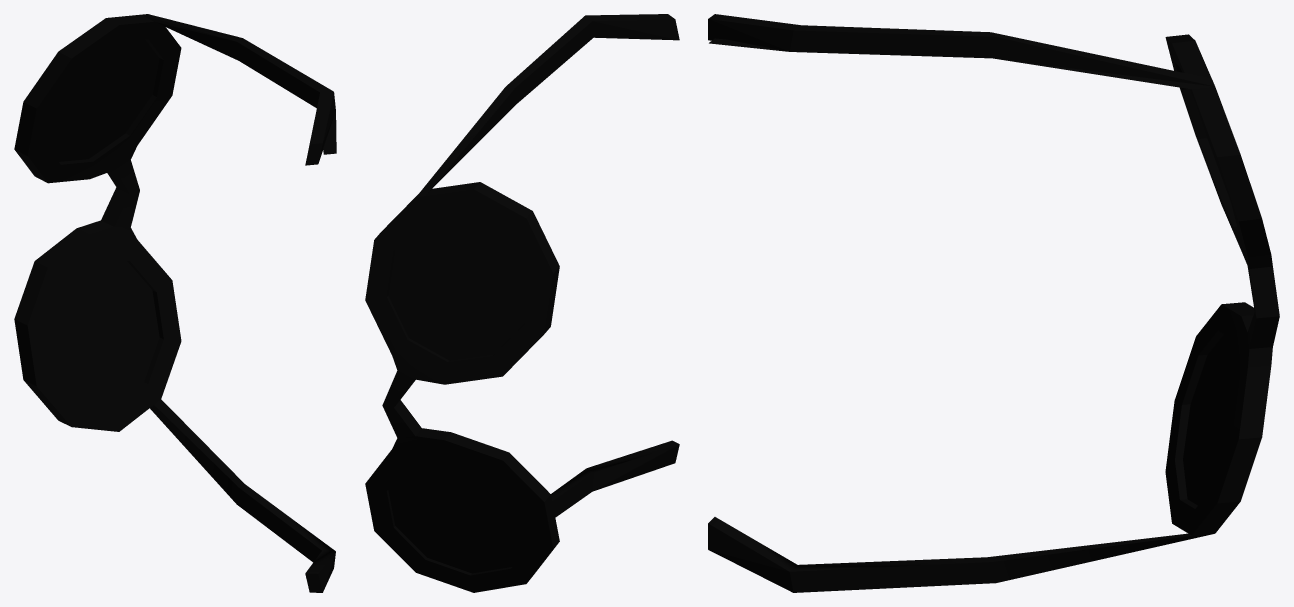
File: f_glasses_Toddy.fbx
The picture shows the model from 3 angles, left to right: view 1: azimuth 30°, elevation 25°; view 2: azimuth 150°, elevation 25°; view 3: azimuth 270°, elevation 25°; orthographic projection. The views are drawn at different scales.
Visible parts, largest first — view 1: M_Glasses_Reading; view 2: M_Glasses_Reading; view 3: M_Glasses_Reading.
Part boxes in pixels (<box>): M_Glasses_Reading: <box>14,14,336,592</box>; M_Glasses_Reading: <box>365,14,679,592</box>; M_Glasses_Reading: <box>708,14,1279,592</box>.
Size of the model in its own units: 0.0386 by 0.1058 by 0.0974.
